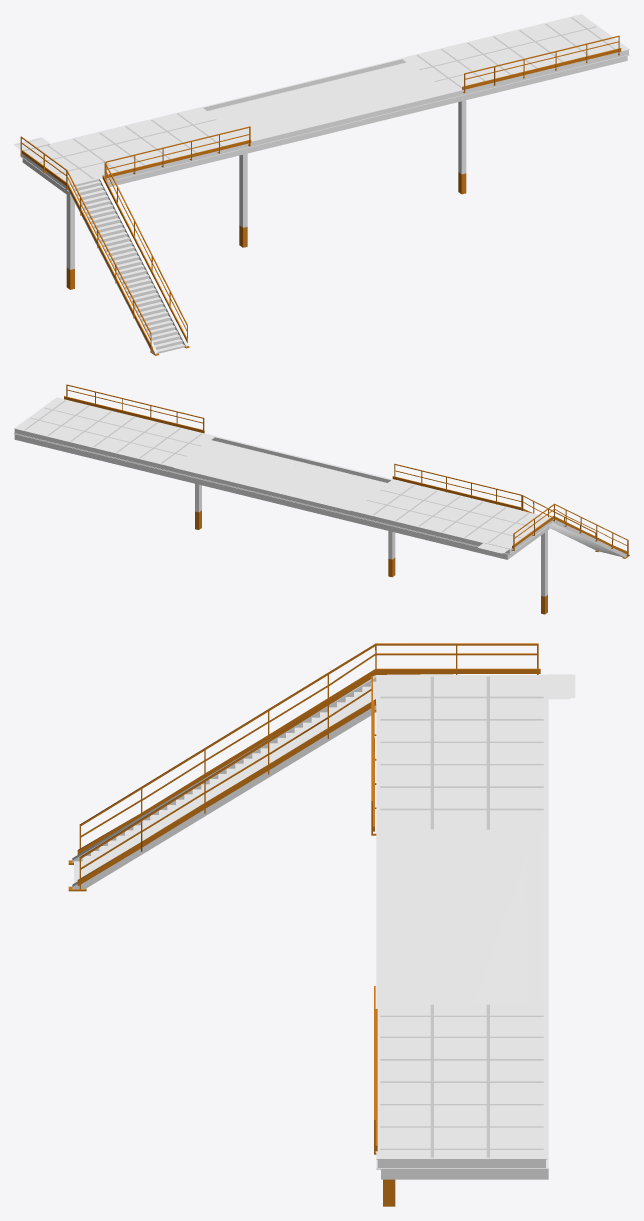
Rendered from SM_H_Building_Tide_Stairs_02_ATLAS.fbx.
3 views of the same model, one above another, from view 1: azimuth 30°, elevation 25°; view 2: azimuth 150°, elevation 25°; view 3: azimuth 270°, elevation 25° (orthographic). The views are drawn at different scales.
Visible parts, largest first — view 1: SM_H_Building_Tide_Stairs_02_ATLAS; view 2: SM_H_Building_Tide_Stairs_02_ATLAS; view 3: SM_H_Building_Tide_Stairs_02_ATLAS.
Part boxes in pixels (box(x1,y1,x2,y2)): SM_H_Building_Tide_Stairs_02_ATLAS: box(14, 14, 629, 355); SM_H_Building_Tide_Stairs_02_ATLAS: box(14, 384, 629, 614); SM_H_Building_Tide_Stairs_02_ATLAS: box(68, 643, 575, 1206).
Size of the model in its own units: 3254 by 1433 by 677.
